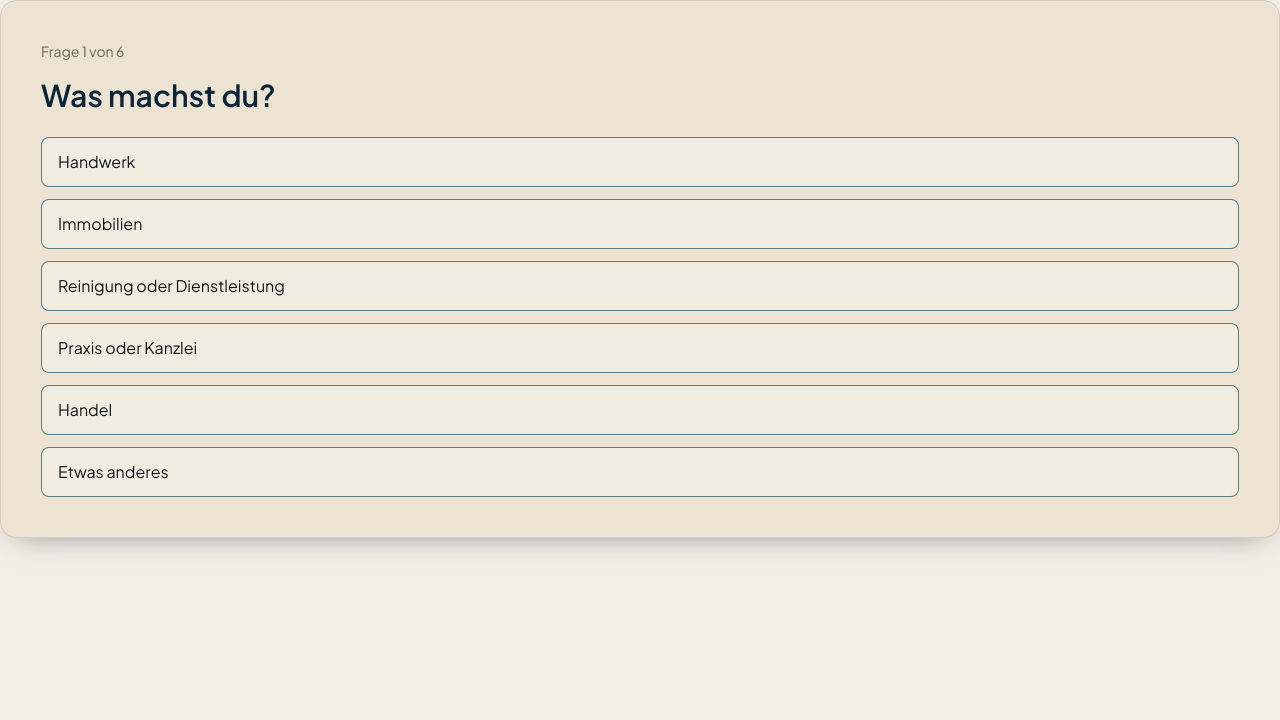
Test: ProzessCheck wizard › shows the honest zero-state when all sliders stay at 0
Step 1. Click the button "Handwerk" → coordinates (97, 162), box [41,137,1239,187]
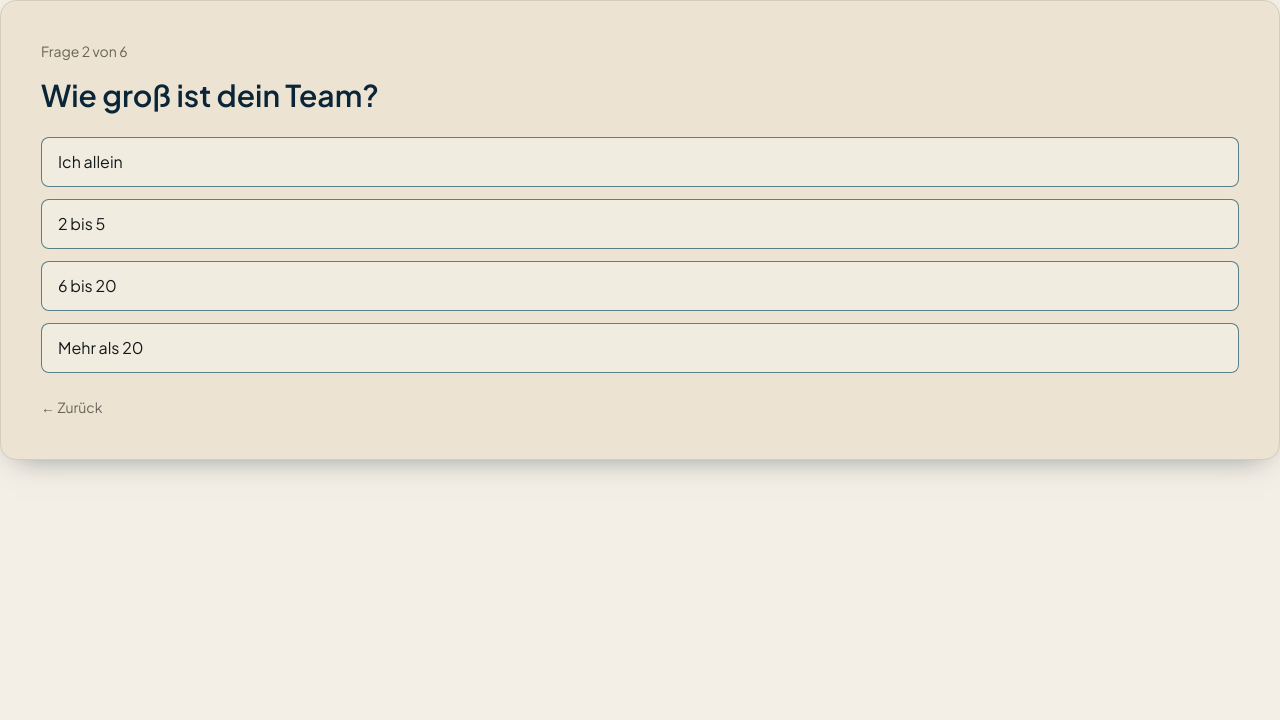
Step 2. Click the button "Ich allein" → coordinates (90, 162), box [41,137,1239,187]
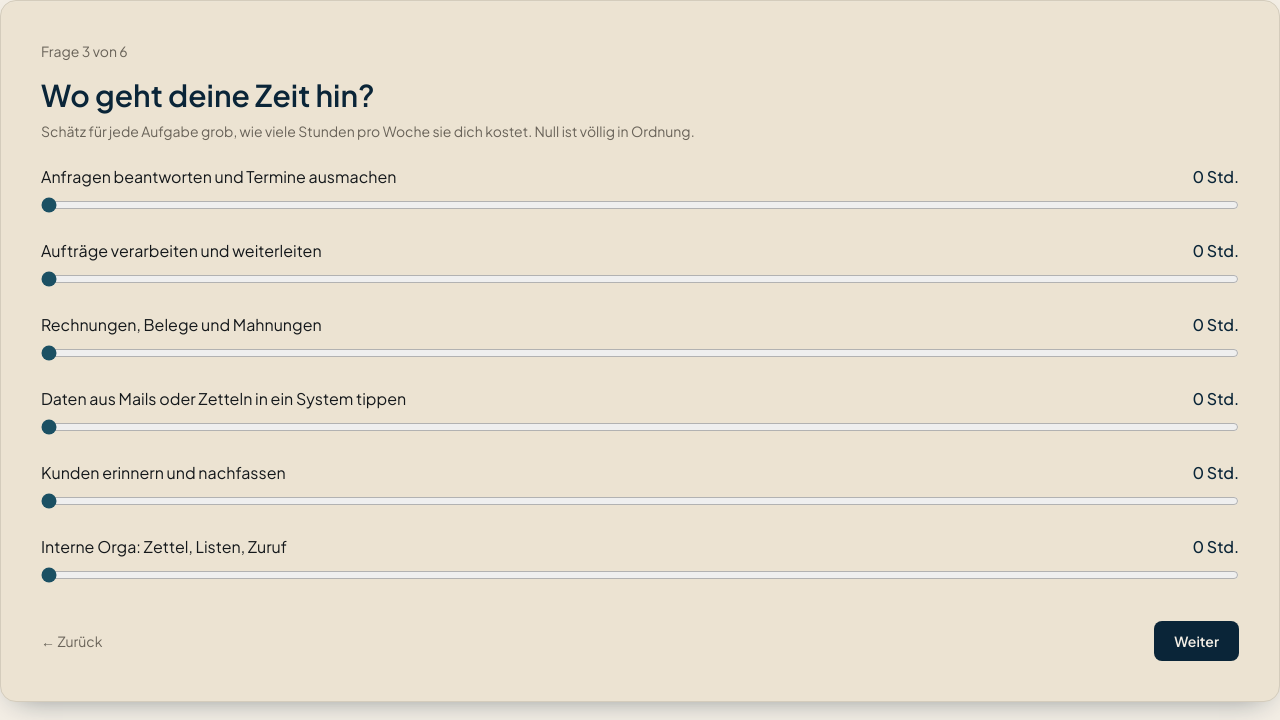
Step 3. Click the button "Weiter" → coordinates (1197, 641), box [1154,621,1239,661]
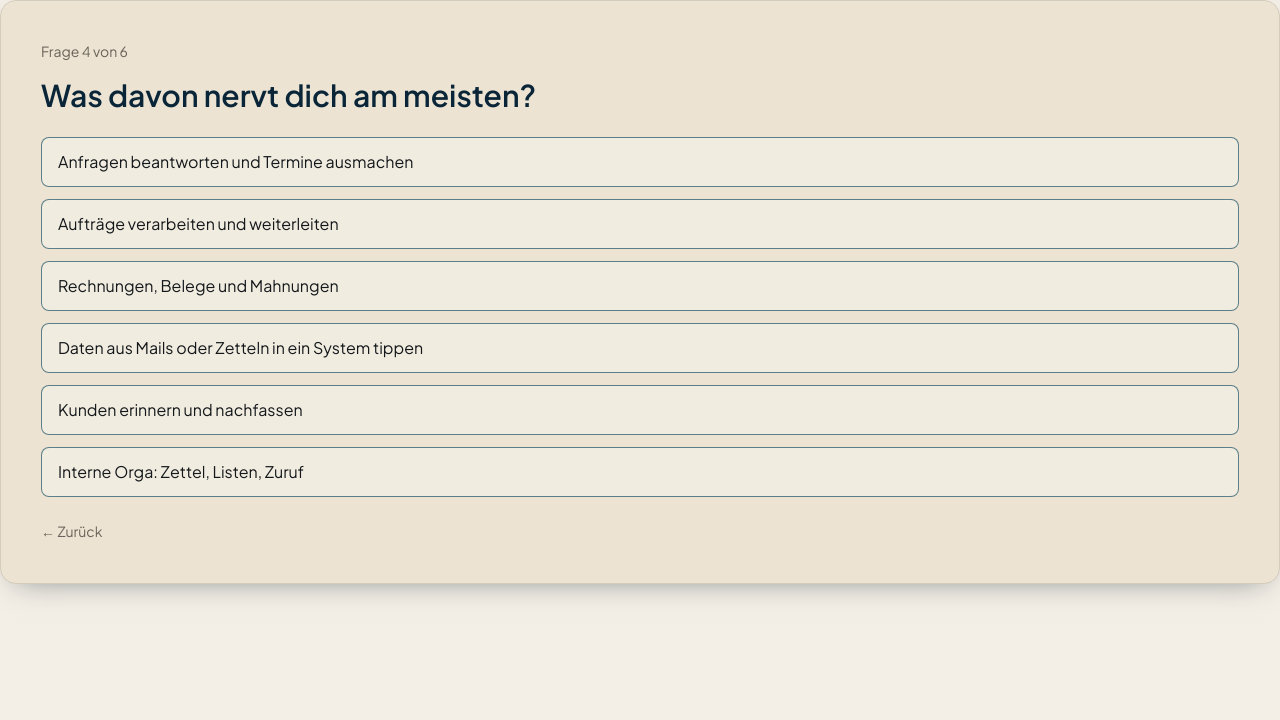
Step 4. Click the button "Anfragen beantworten und Termine ausmachen" → coordinates (236, 162), box [41,137,1239,187]
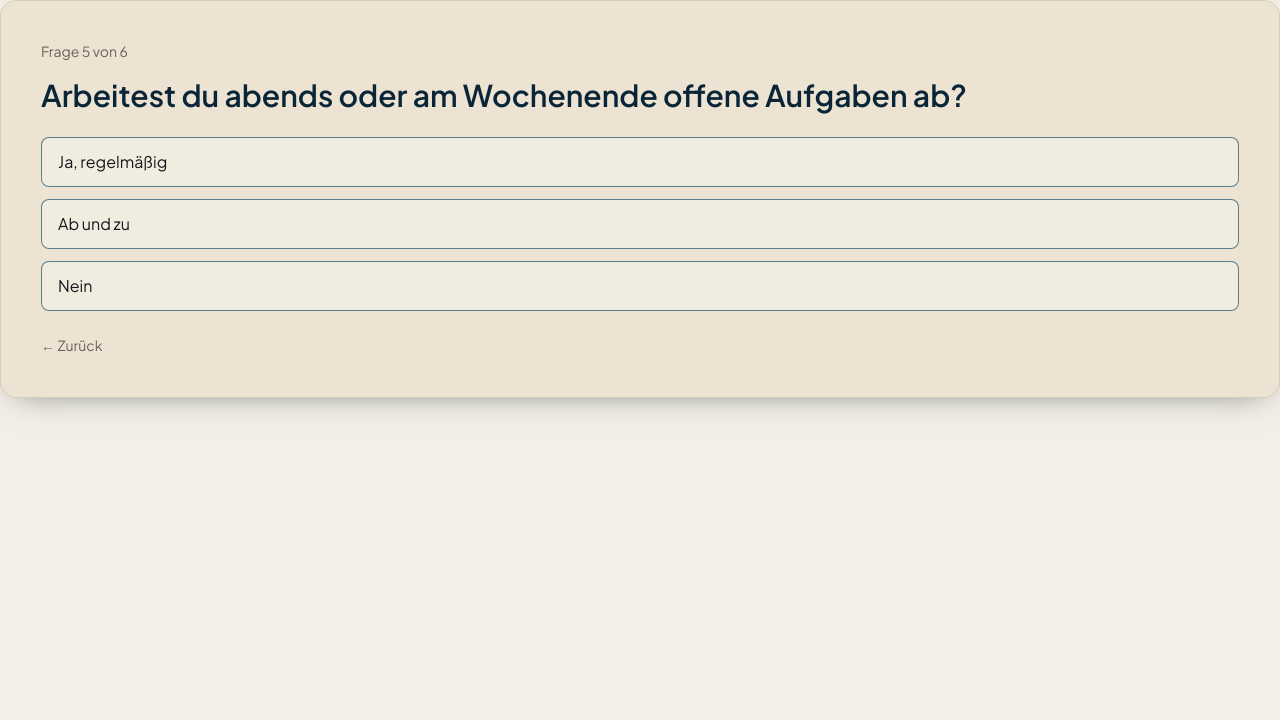
Step 5. Click the button "Nein" → coordinates (75, 286), box [41,261,1239,311]
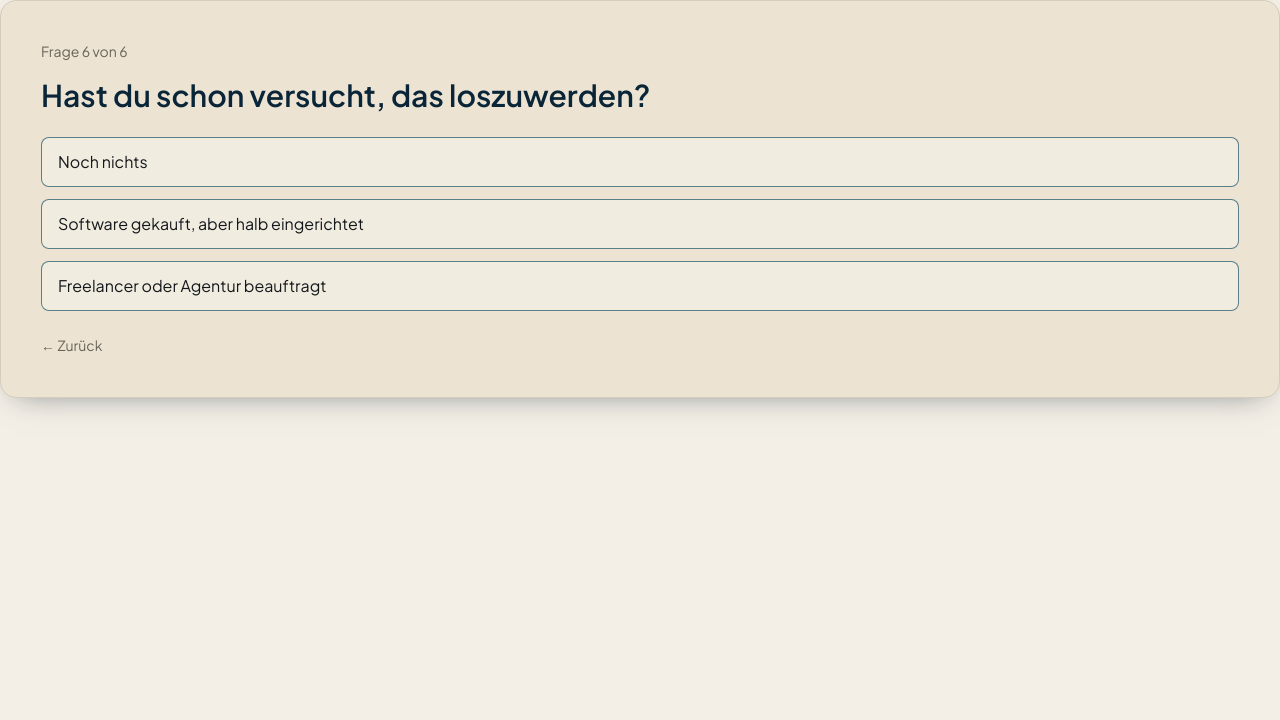
Step 6. Click the button "Noch nichts" → coordinates (103, 162), box [41,137,1239,187]
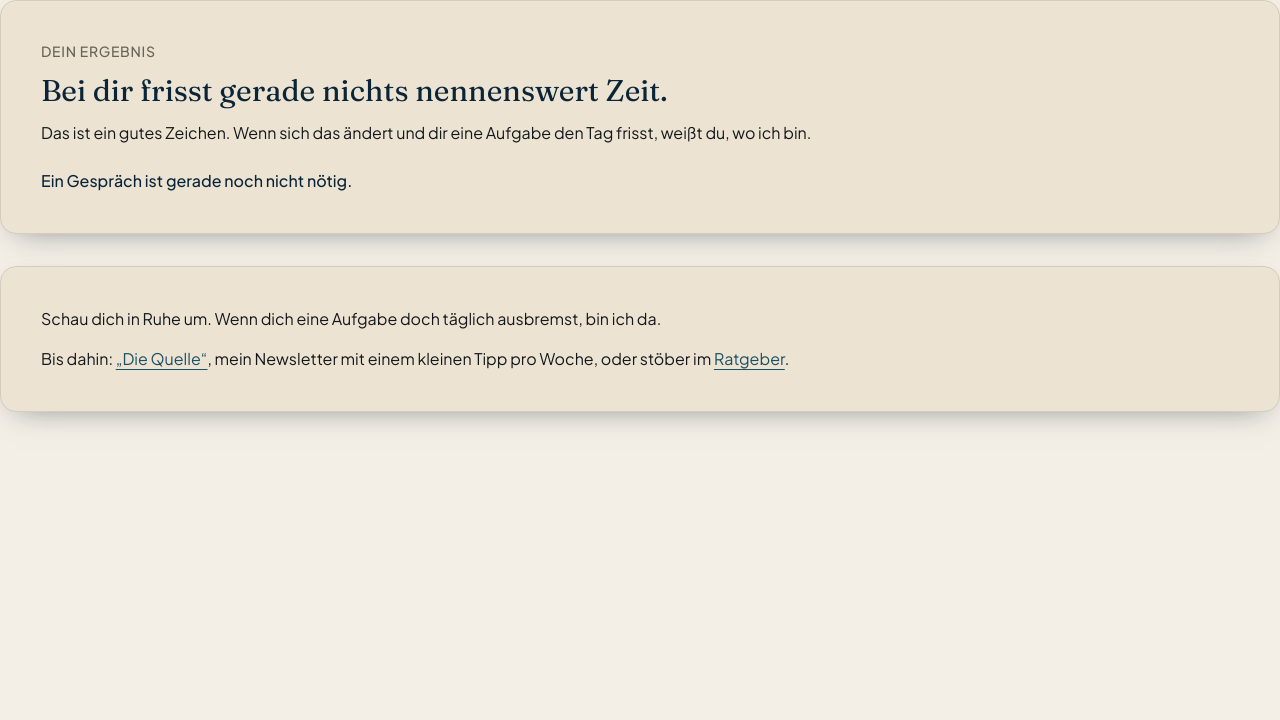
Now the text "Ein Gespräch ist gerade noch nicht nötig." is shown, box [41,170,352,191]
